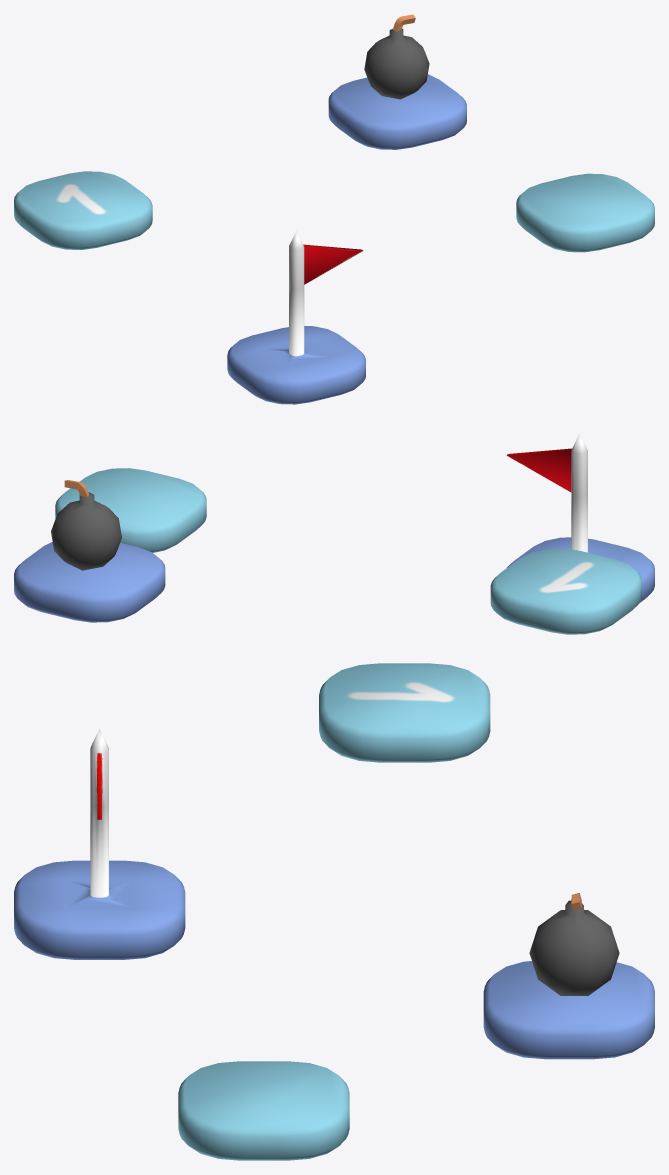
3 views of the same model, one above another, from view 1: azimuth 30°, elevation 25°; view 2: azimuth 150°, elevation 25°; view 3: azimuth 270°, elevation 25° (orthographic). The views are drawn at different scales.
Visible parts, largest first — view 1: Cube.001, Cube.002, Cube.003, Cube.004, Icosphere; view 2: Cube.003, Cube.004, Cube.002, Cube.001, Icosphere; view 3: Cube.001, Cube.003, Cube.002, Cube.004, Icosphere.
Part boxes in pixels (x1,y1,x2,y2): Cube.001: (227, 231, 365, 404); Cube.002: (516, 173, 654, 252); Cube.003: (14, 171, 152, 249); Cube.004: (328, 74, 466, 149); Icosphere: (364, 28, 429, 99); Cube.003: (490, 548, 641, 634); Cube.004: (14, 542, 165, 622); Cube.002: (55, 468, 206, 552); Cube.001: (506, 433, 654, 602); Icosphere: (51, 492, 121, 570); Cube.001: (14, 728, 185, 959); Cube.003: (319, 663, 490, 762); Cube.002: (178, 1061, 349, 1160); Cube.004: (483, 961, 654, 1059); Icosphere: (529, 900, 619, 995).
Bounding box in the file's own units: 10.22 × 2.83 × 7.49.
Materials: 6 (2 with a texture image).
